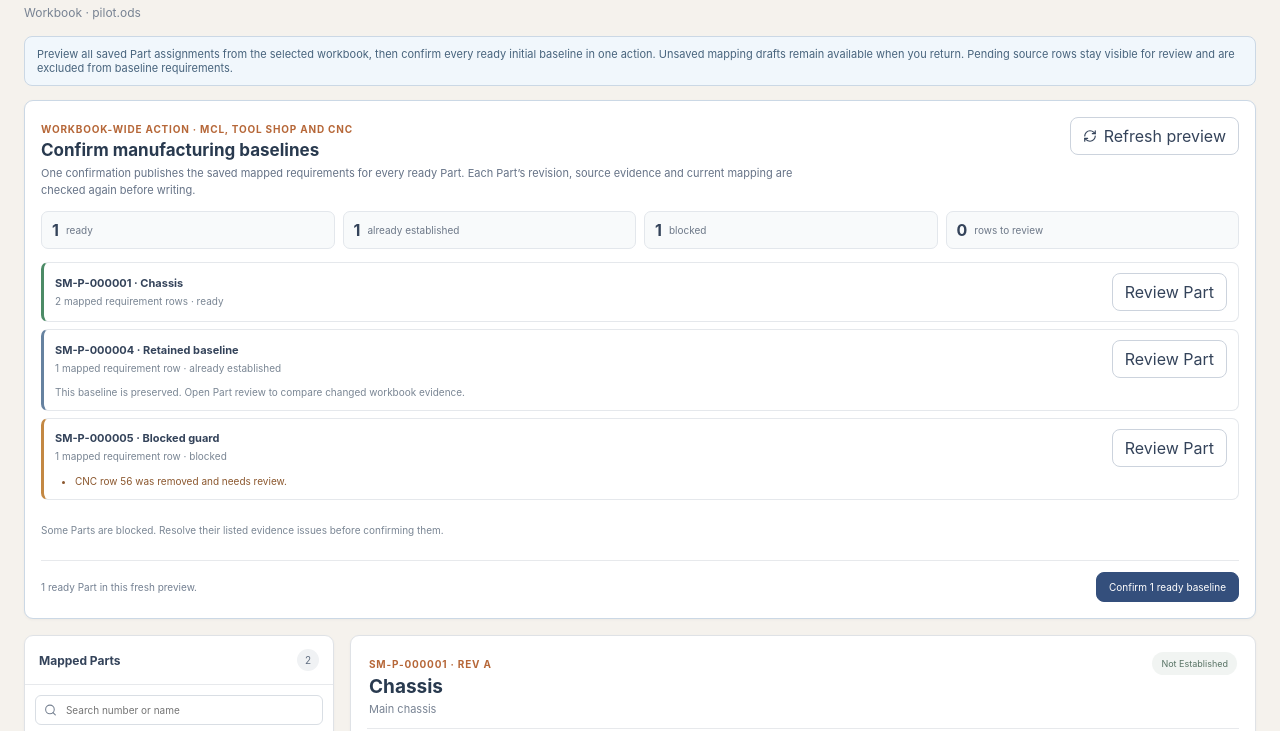
Test case: reports blocked and retained Parts truthfully when no source rows are pending
Expected: the heading "Confirm manufacturing baselines" is shown, [41,140,319,160]
Expected: the text "1" is shown 3 times, [52,220,59,240]; [354,220,360,240]; [655,220,662,240]
Click the button "Confirm 1 ready baseline". click: x=1168, y=587
box: [1096,572,1239,602]
(page scrolled)
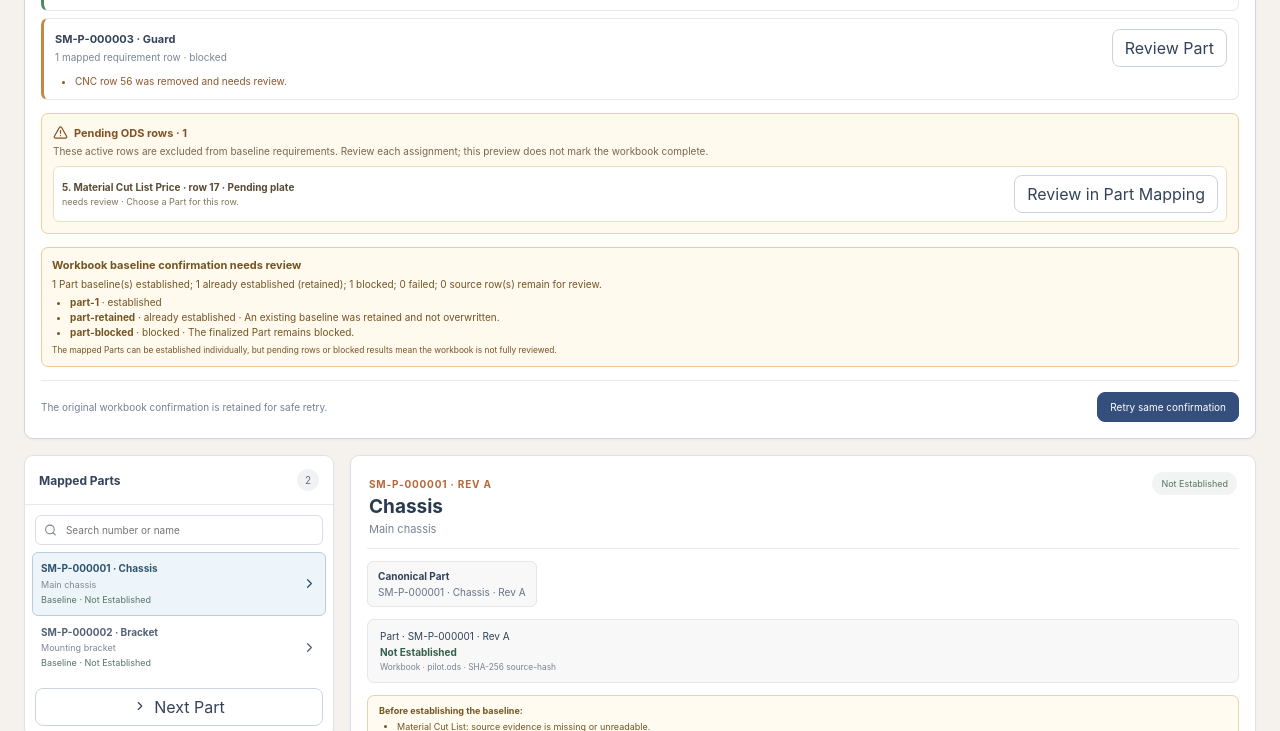
Result: the text "1 Part baseline(s) established; 1 already established (retained); 1 blocked; 0 failed; 0 source row(s) remain for review" is shown at [52,278,602,290]
Result: the text "Workbook baseline confirmation needs review" is shown at [52,258,301,272]
Result: the list item "An existing baseline was retained and not overwritten" is shown at [236,310,500,322]
